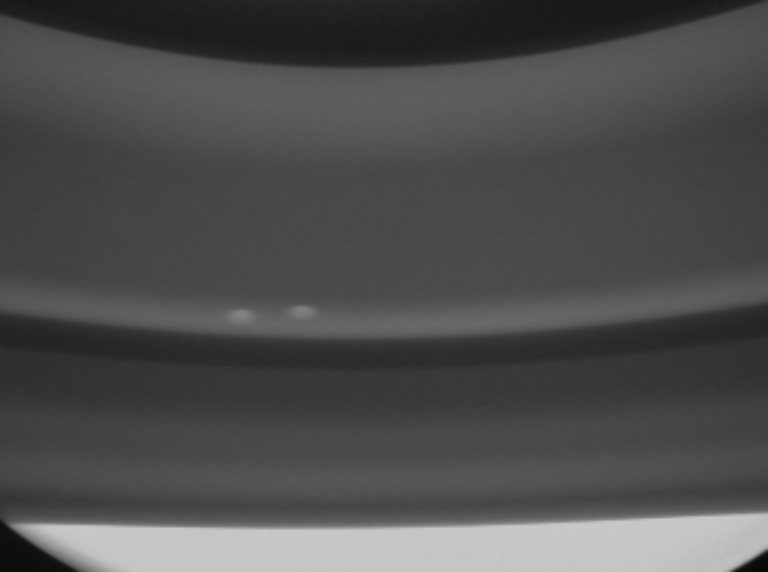defect: (279, 299, 324, 331)
